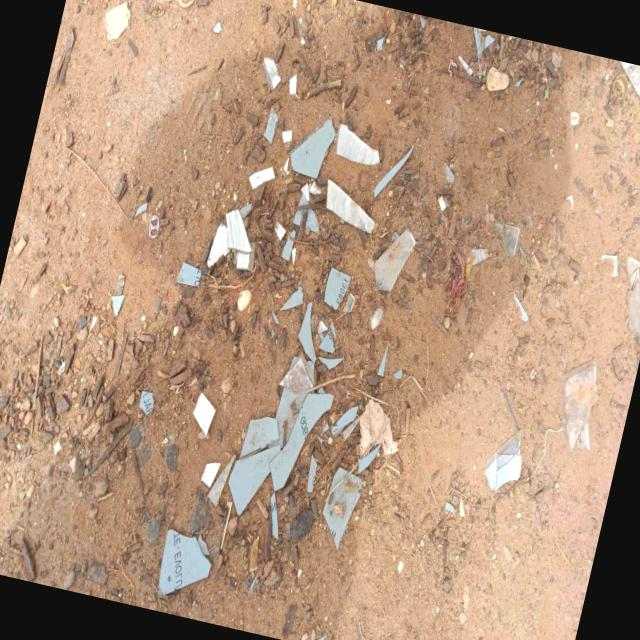thuy_tinh: (228, 372, 333, 514), (158, 529, 209, 593), (208, 208, 252, 268), (373, 227, 415, 289), (326, 178, 373, 230), (291, 117, 333, 173), (210, 210, 246, 258), (336, 124, 370, 161), (297, 300, 315, 359), (323, 272, 350, 308), (193, 393, 214, 434), (293, 182, 309, 225), (262, 55, 279, 87), (249, 166, 274, 187), (263, 109, 277, 142), (177, 264, 198, 285), (281, 231, 293, 260), (304, 207, 319, 230), (361, 215, 373, 230), (331, 477, 343, 490)
